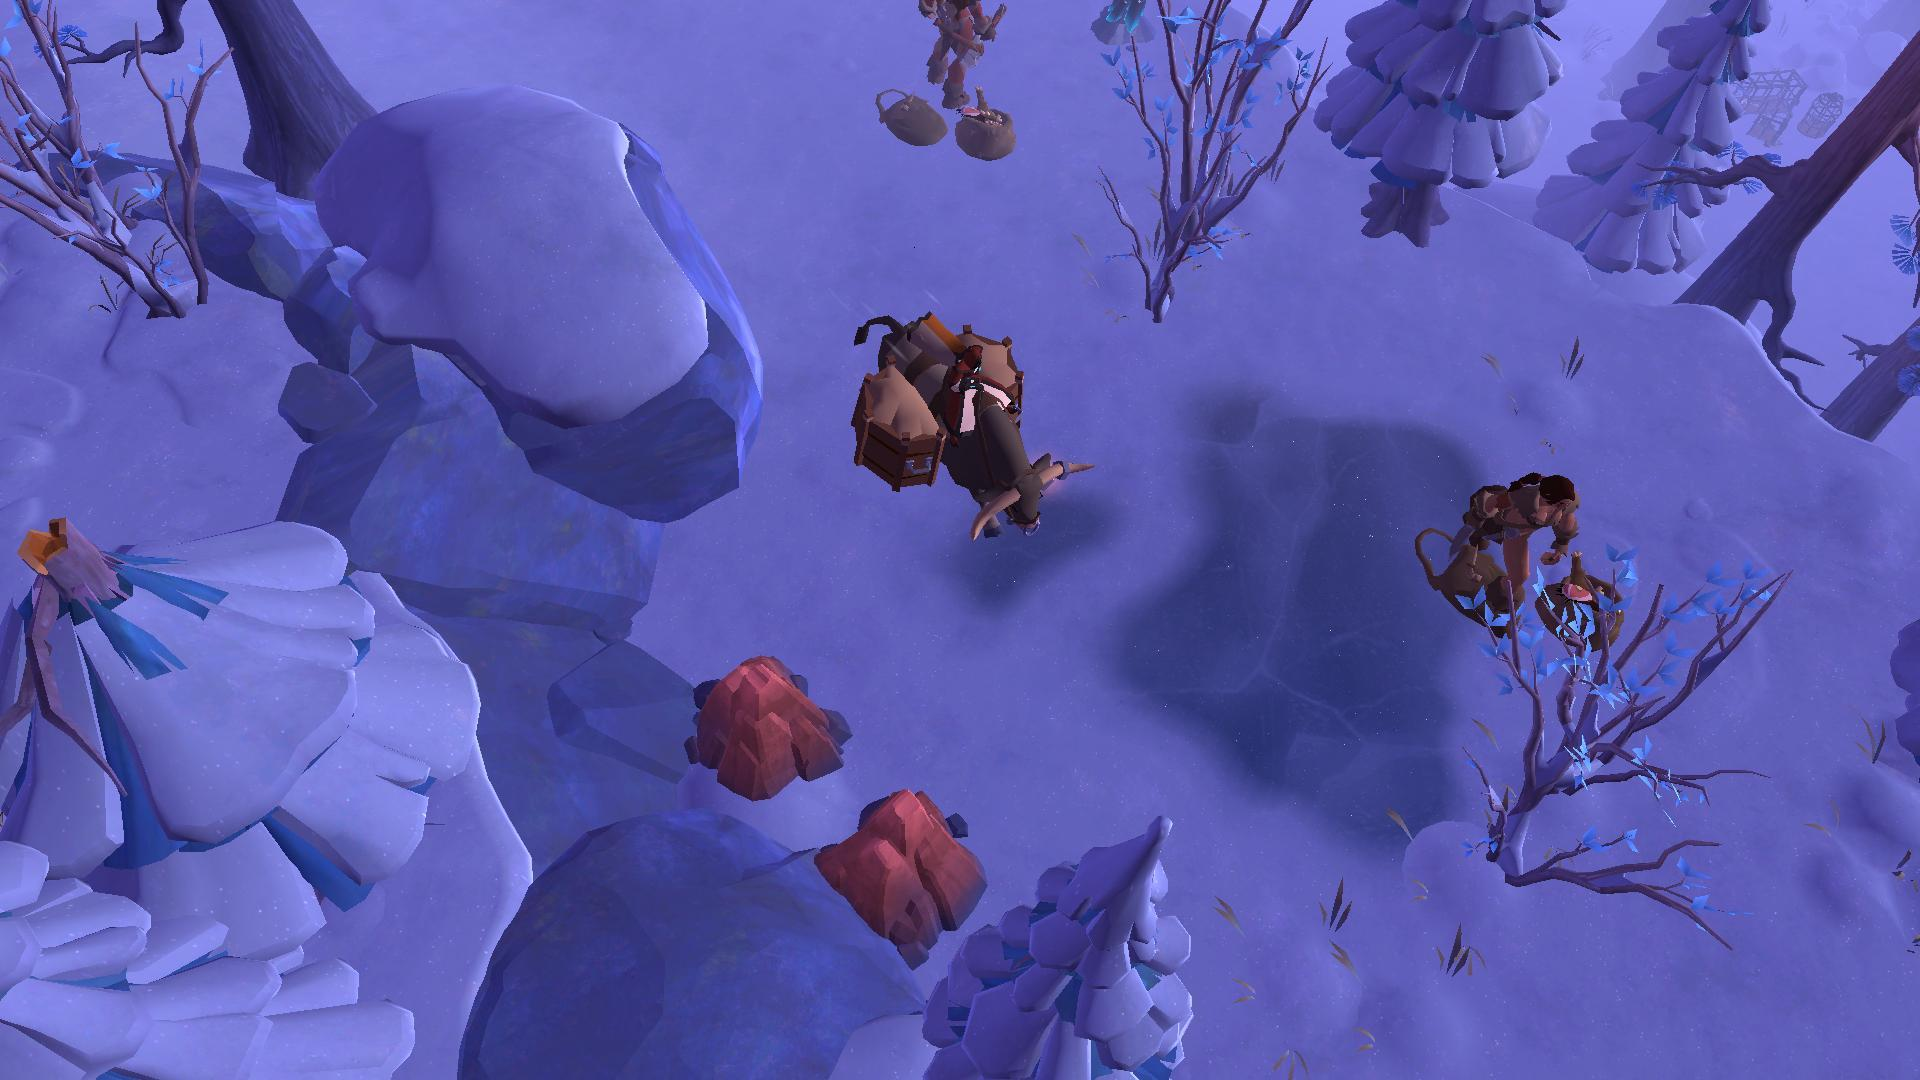enemy_factionKeeper: (1455, 454, 1576, 621), (910, 0, 1011, 103)
rock_t5: (807, 781, 978, 959), (692, 654, 848, 795)
